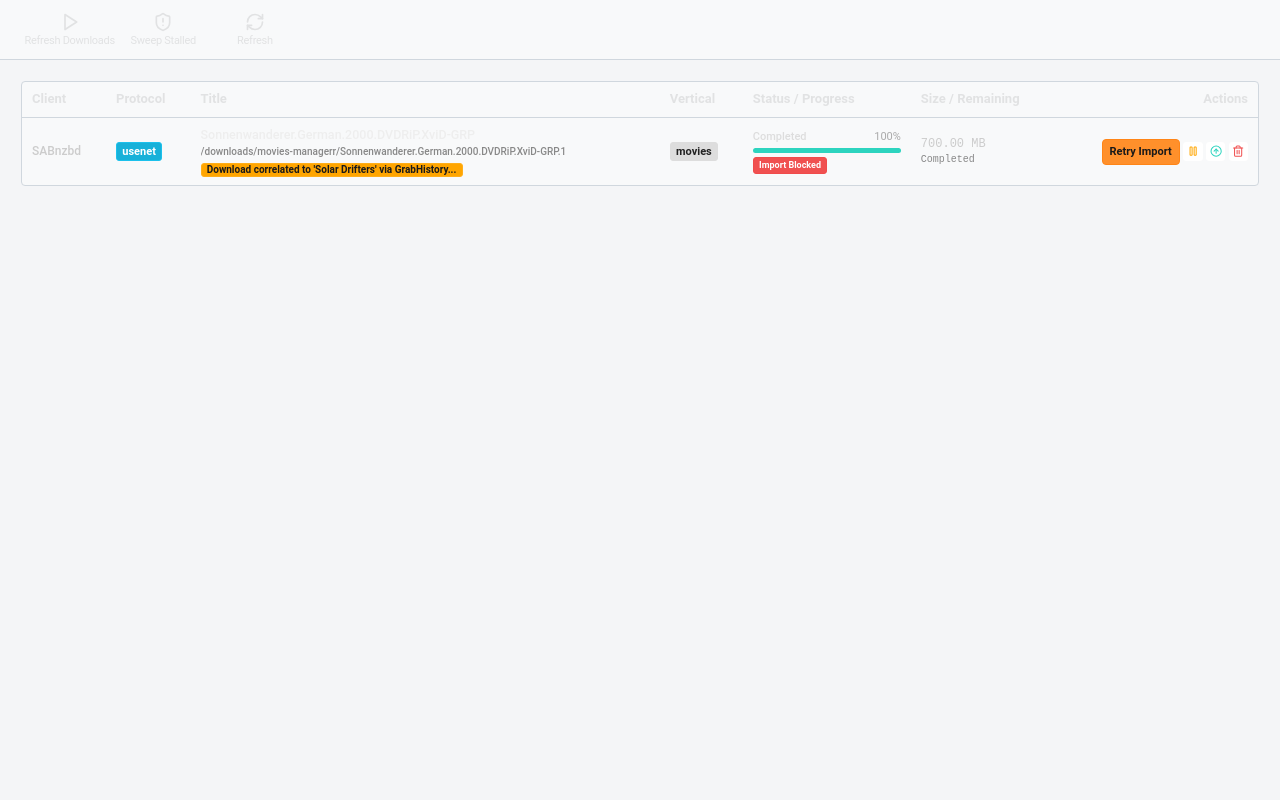
it: Localized Retry & Manual Override Import Modals › ActivityQueueAndHistoryView pre-selects work, leaves episodes empty, stays open on ImportBlocked, and closes on VerifiedPass
The image size is (1280, 800).
Click the button "Retry Import": (1141, 152) x1=1102 y1=138 x2=1180 y2=164
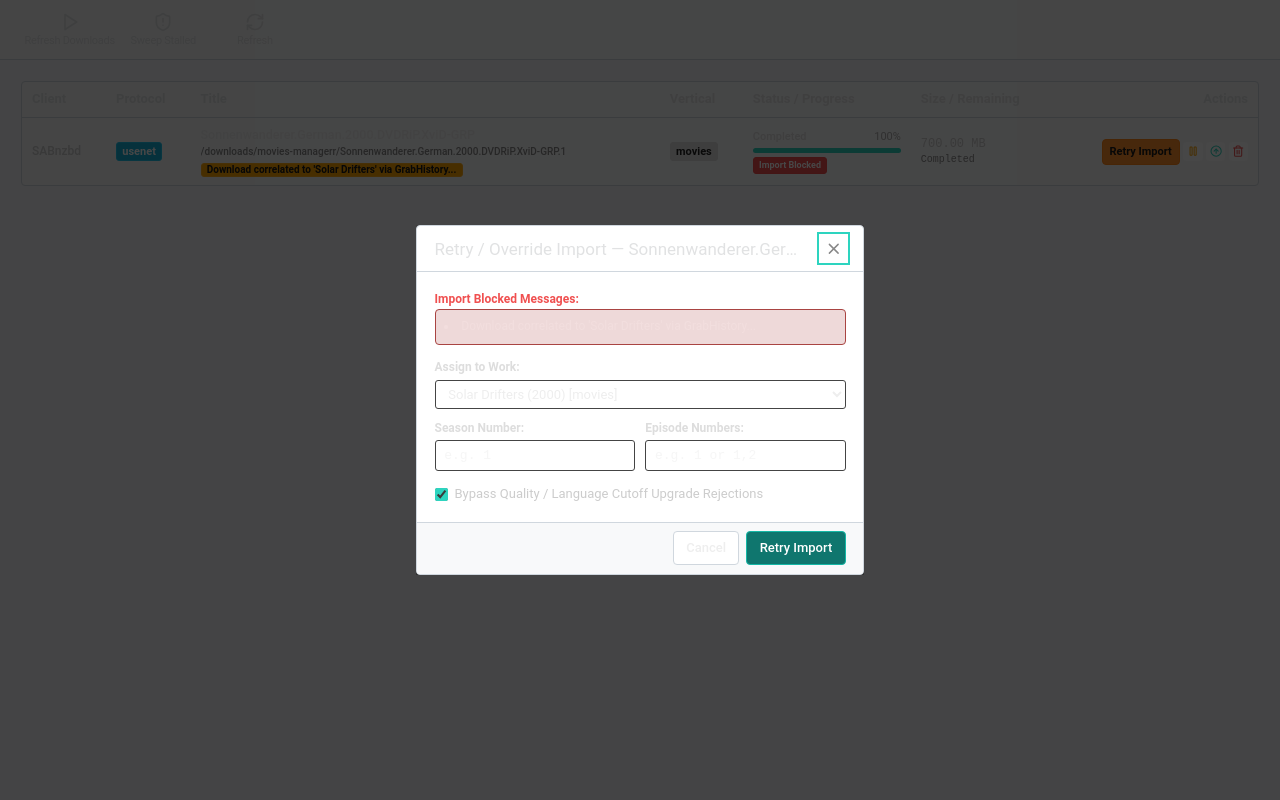
Expected: the heading "Retry / Override Import — Sonnenwanderer.German.2000.DVDRiP.XviD-GRP" is shown, x1=434 y1=236 x2=810 y2=261
Result: the checkbox labelled "Bypass Quality / Language Cutoff Upgrade Rejections" is checked
Click the checkbox labelled "Bypass Quality / Language Cutoff Upgrade Rejections": (441, 495) x1=434 y1=488 x2=448 y2=501
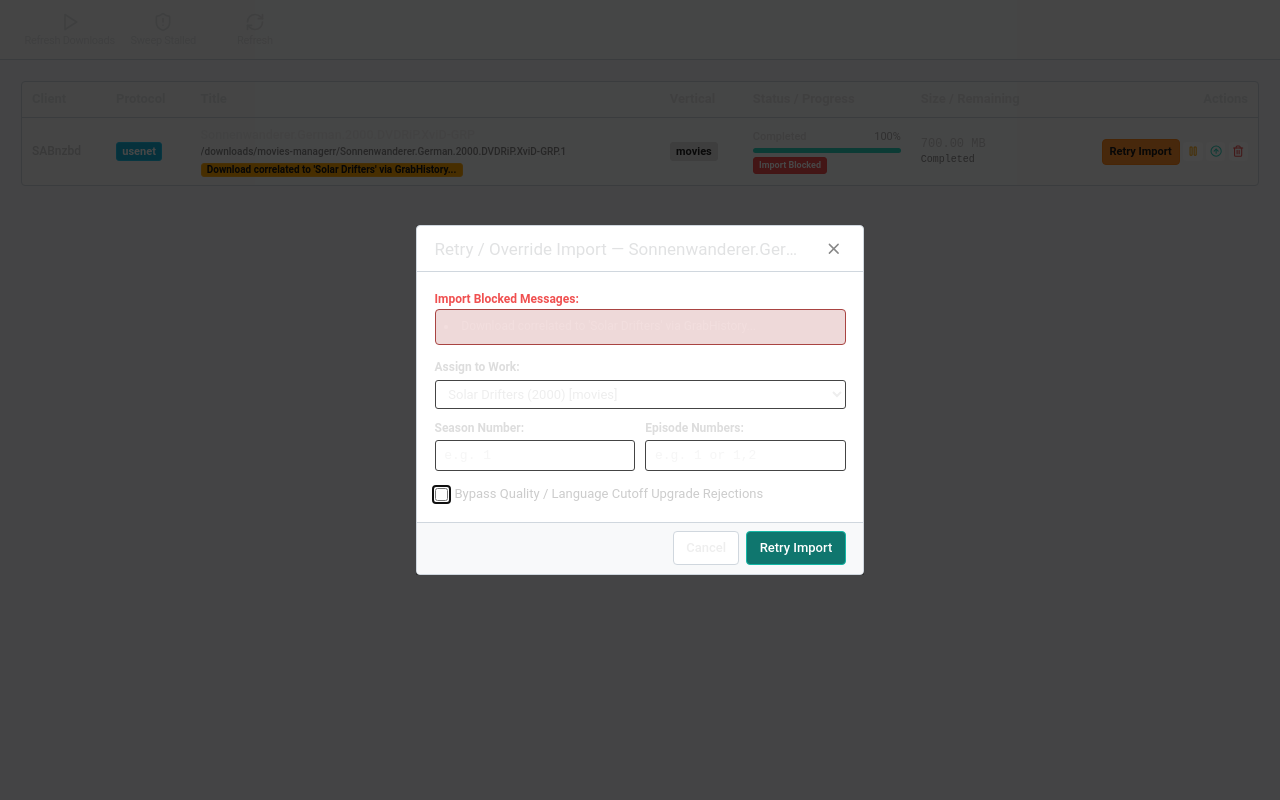
Result: the checkbox labelled "Bypass Quality / Language Cutoff Upgrade Rejections" is not checked at x1=434 y1=488 x2=448 y2=501
Click the button "Retry Import": (796, 548) x1=746 y1=531 x2=846 y2=565
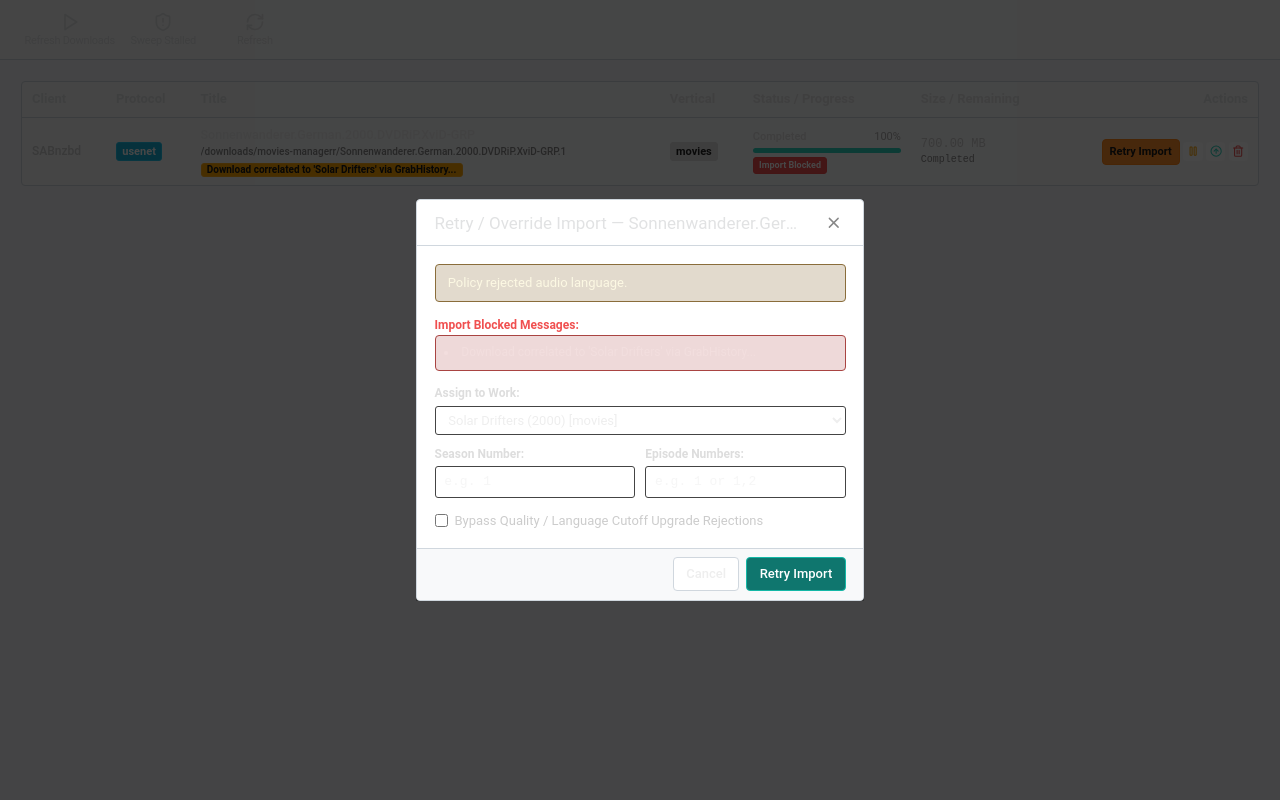
Result: the heading "Retry / Override Import — Sonnenwanderer.German.2000.DVDRiP.XviD-GRP" is shown at x1=434 y1=210 x2=810 y2=235
Result: the dropdown labelled "Assign to Work:" shows "Solar Drifters (2000) [movies]" at x1=434 y1=406 x2=846 y2=435
Result: the message reads "Policy rejected audio language." at x1=448 y1=275 x2=628 y2=290
Click the button "Retry Import": (796, 574) x1=746 y1=557 x2=846 y2=591
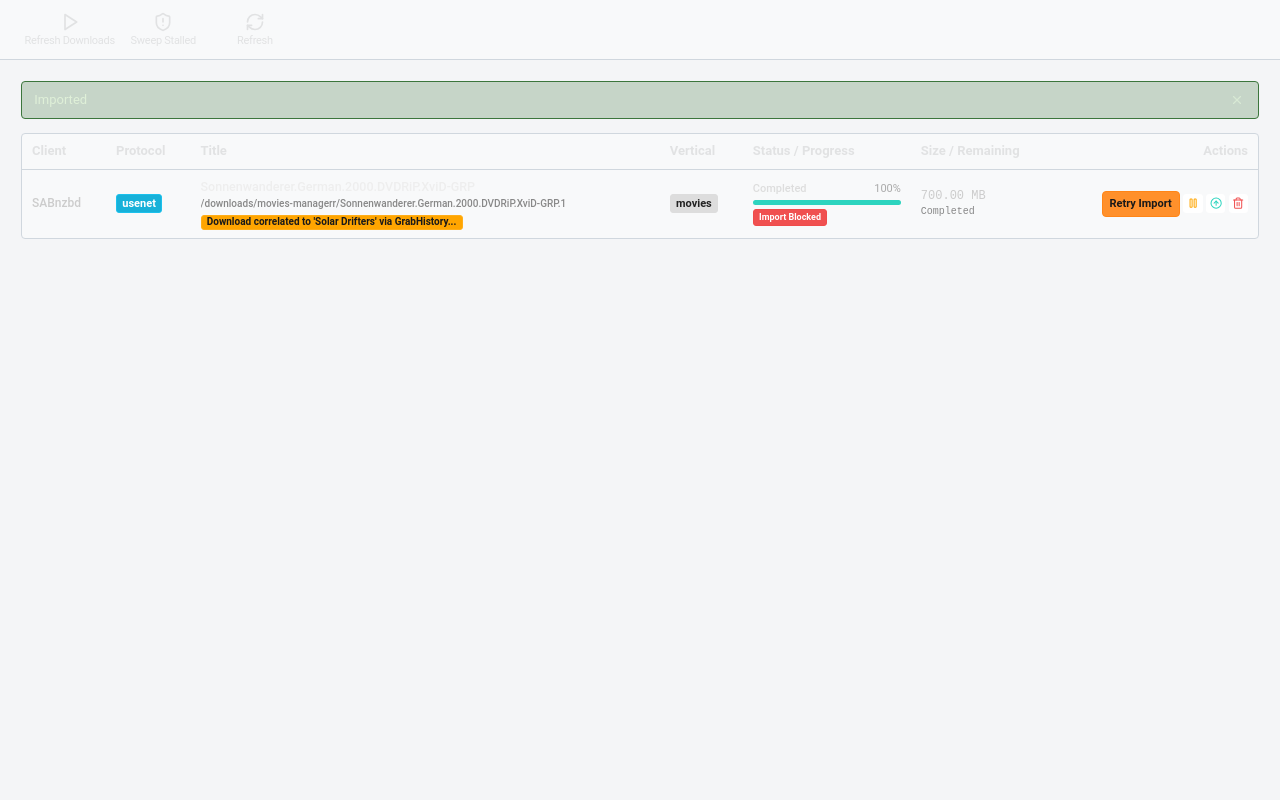
Result: the heading "Retry / Override Import — Sonnenwanderer.German.2000.DVDRiP.XviD-GRP" is gone
Result: the text "Imported" is shown at x1=34 y1=91 x2=87 y2=109
